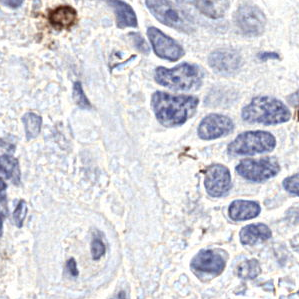Lymphocyte: (47, 3, 79, 29)
